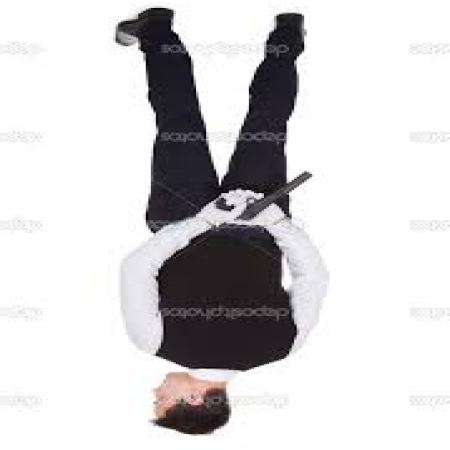Pistol: (211, 172, 319, 222)
